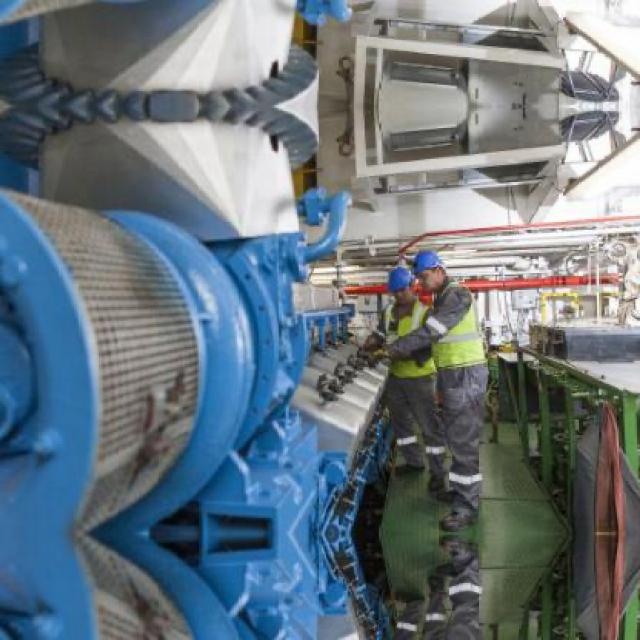helmet: (411, 245, 449, 290), (386, 267, 416, 304)
